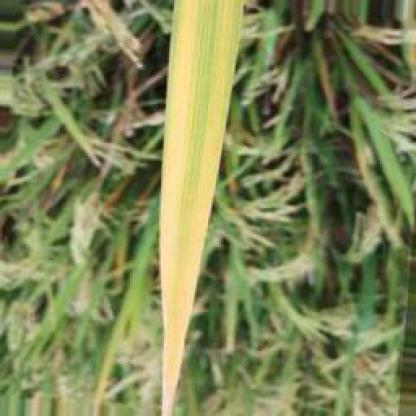Tungro: (148, 3, 247, 416)
